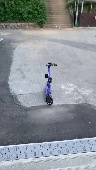beam: (42, 60, 60, 107)
